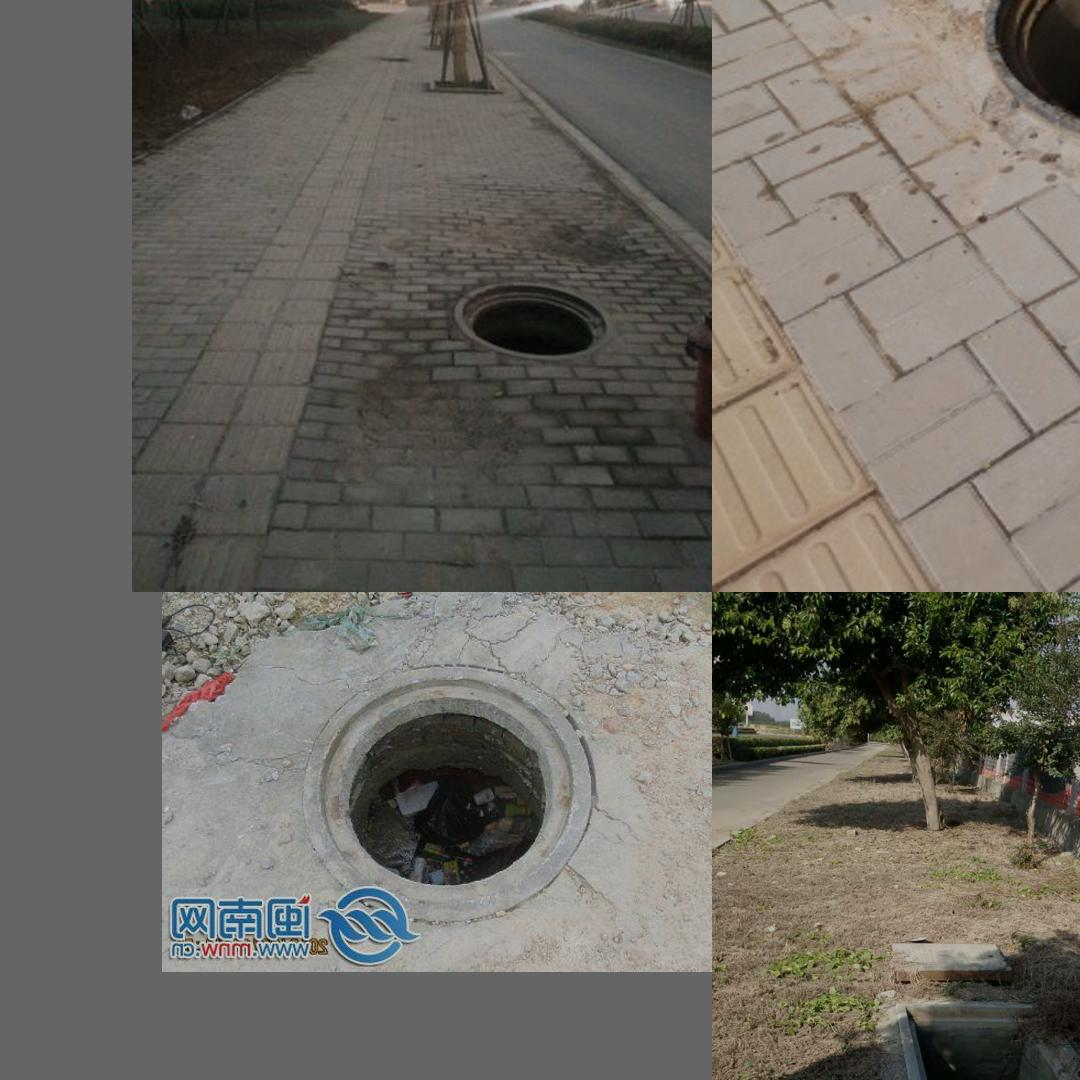lose: (296, 661, 593, 928), (433, 265, 625, 379), (952, 0, 1080, 149), (895, 1000, 1080, 1080)
